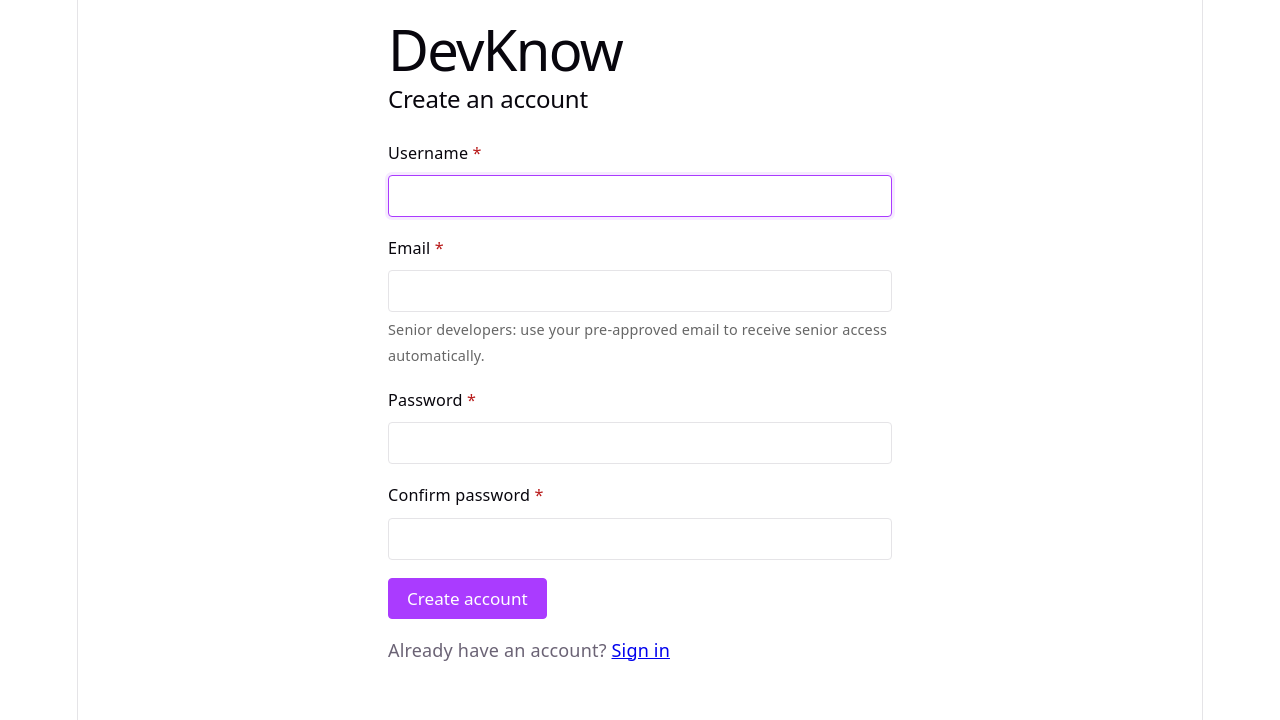
Test case: Register flow › shows a field error when username is already taken
Type "taken_user" into the field with id "username". click: (640, 196)
box: [388,175,892,217]
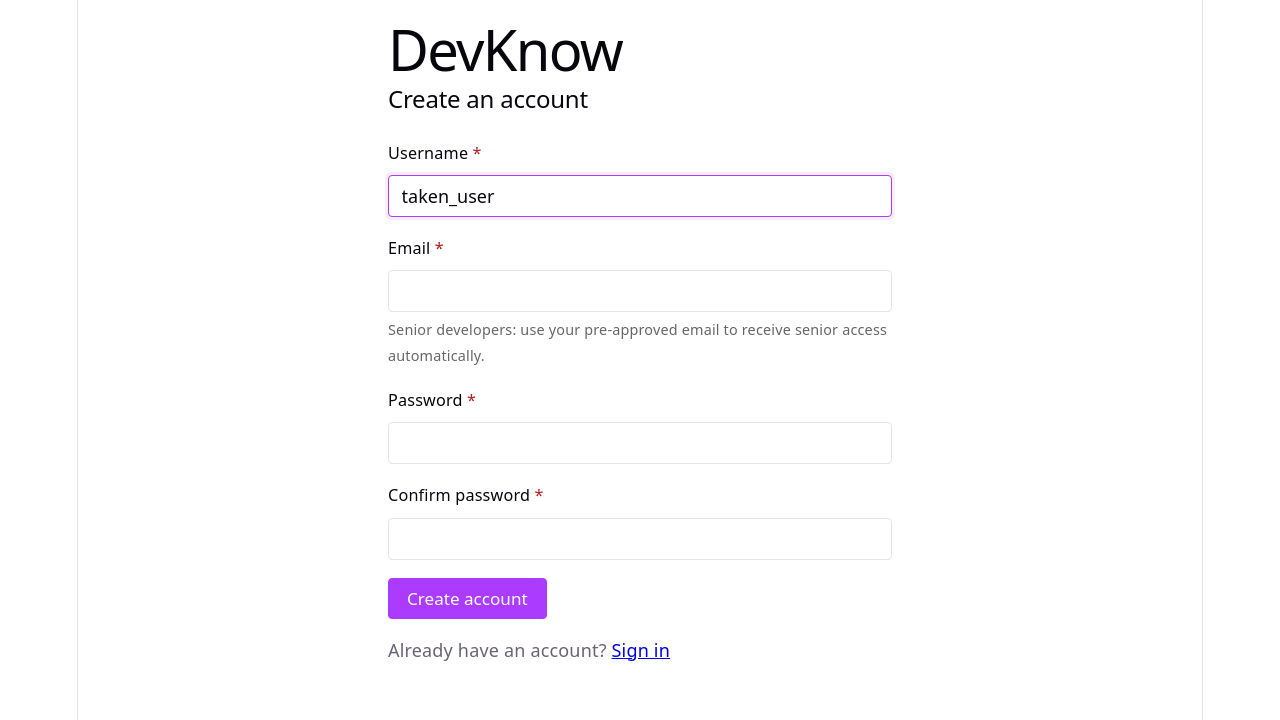
Type "taken@example.com" into the field with id "email". click: (640, 291)
box: [388,270,892,312]
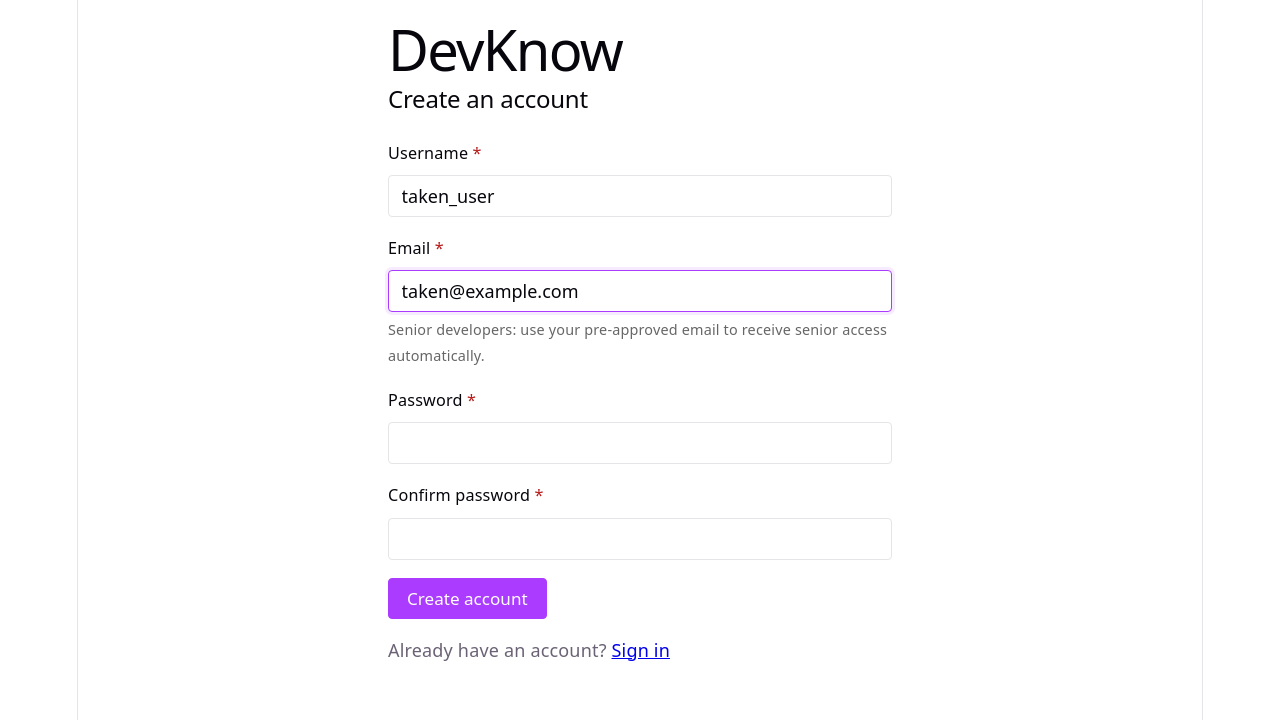
Type "securepass1" into the password field labelled "Password". click: (640, 443)
box: [388,422,892,464]
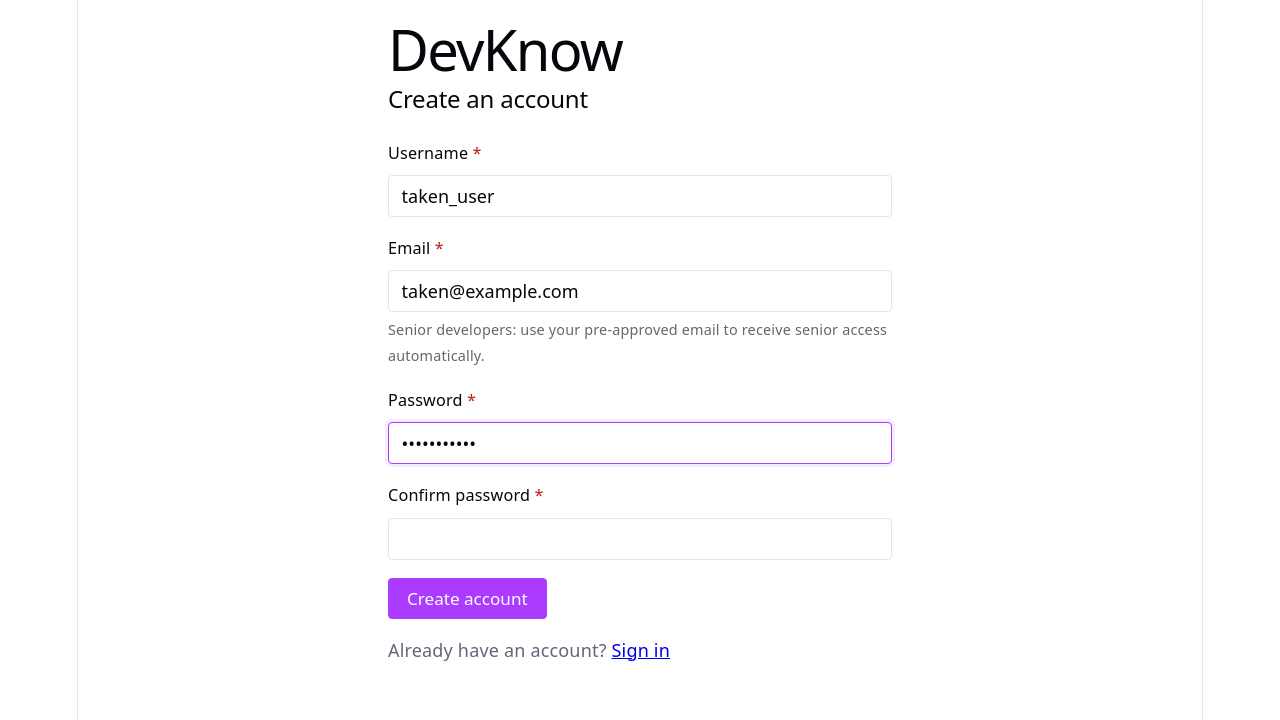
Type "securepass1" into the password field labelled "Confirm password". click: (640, 539)
box: [388,518,892,560]
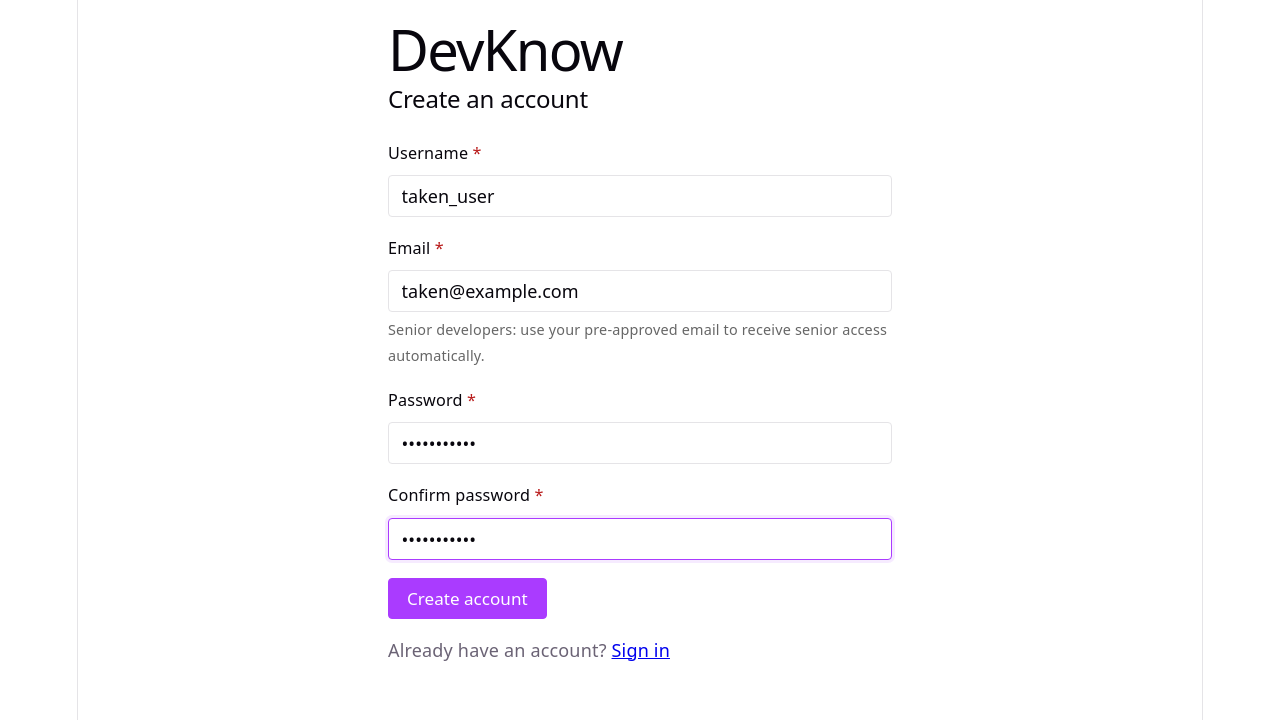
Click the button "Create account". click: (468, 599)
box: [388,578,547,619]
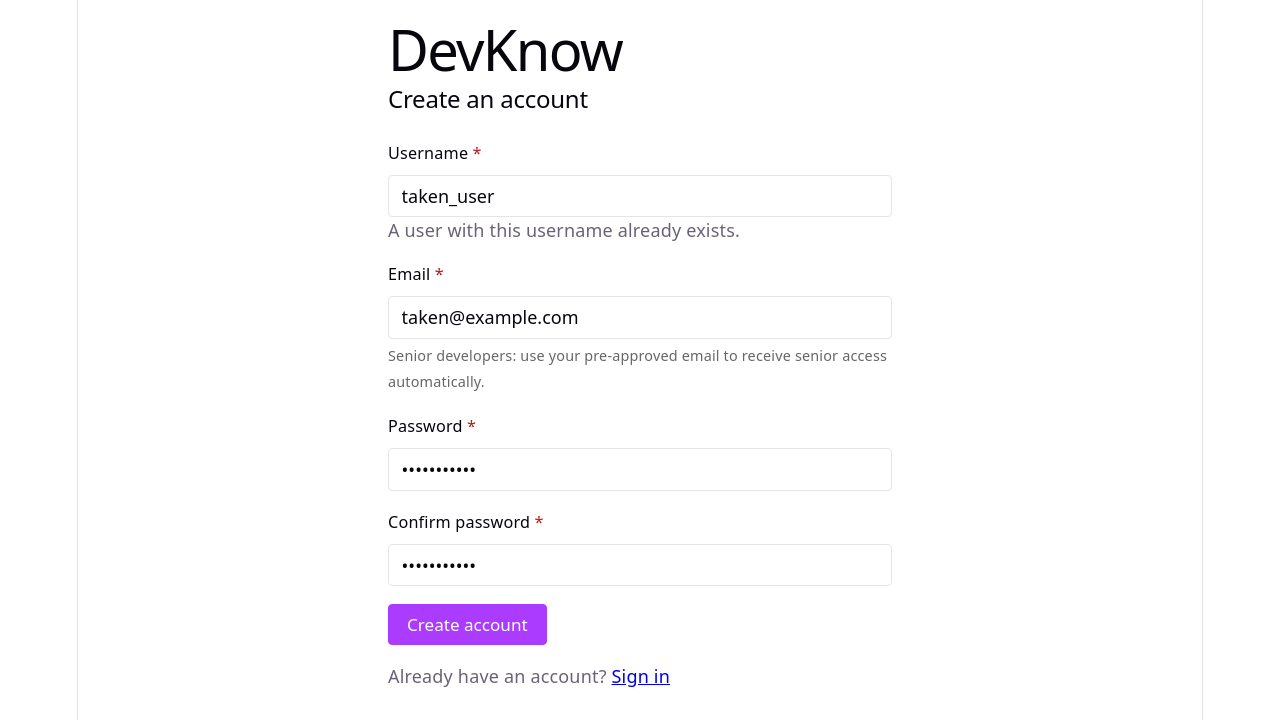
Now the message "A user with this username already exists." is shown, box [388,218,740,242]
